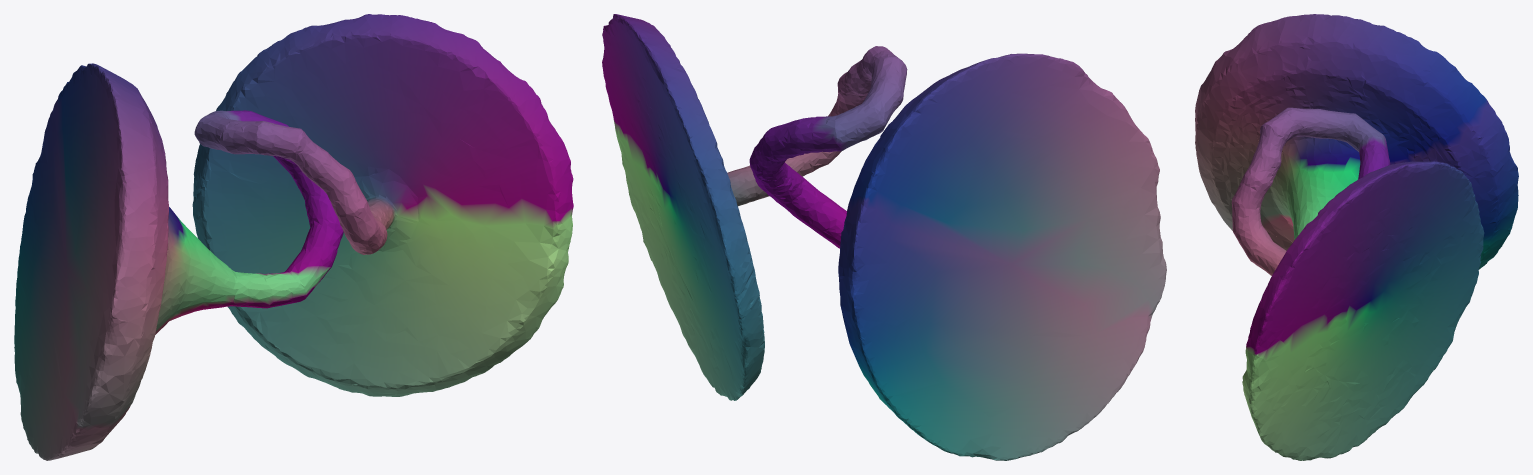
File: lamp-1.off.obj
3 renders of one model, left to right at view 1: azimuth 30°, elevation 25°; view 2: azimuth 150°, elevation 25°; view 3: azimuth 270°, elevation 25°, orthographic. The views are drawn at different scales.
Size of the model in its own units: 1.57 by 1.1 by 0.9925.
